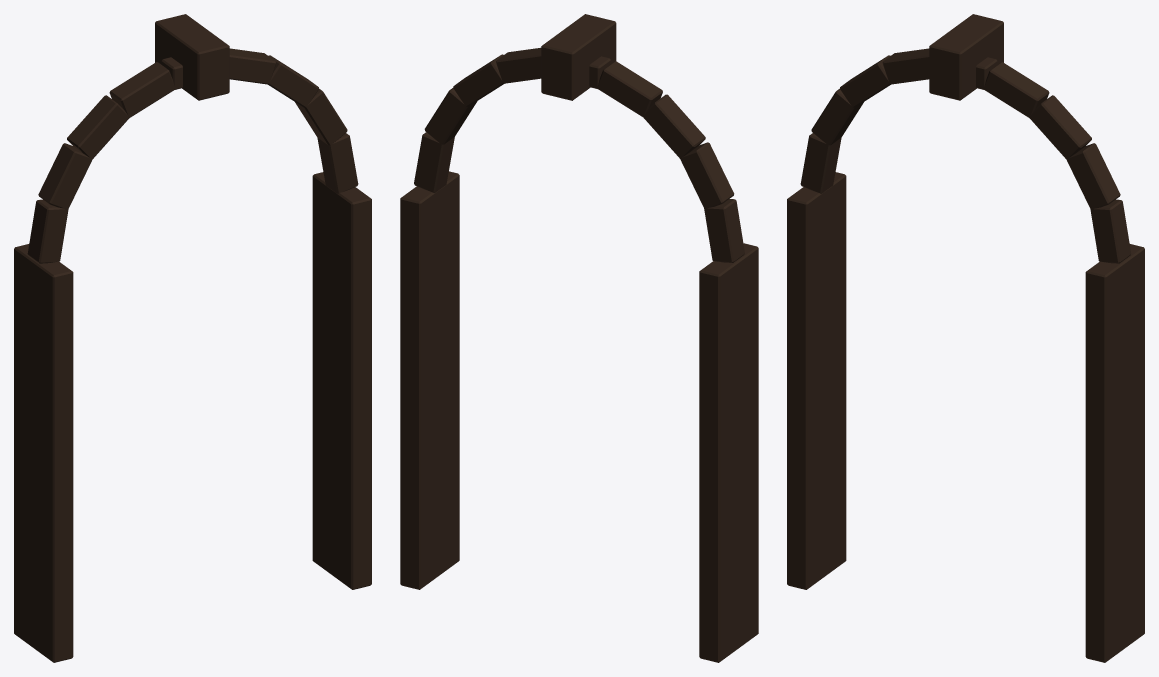
File: frame_archdoor.fbx
The picture shows the model from 3 angles, left to right: view 1: azimuth 30°, elevation 25°; view 2: azimuth 150°, elevation 25°; view 3: azimuth 330°, elevation 25°; orthographic projection.
Visible parts, largest first — view 1: frame_archdoor; view 2: frame_archdoor; view 3: frame_archdoor.
Part boxes in pixels (<box>): frame_archdoor: <box>14,14,371,662</box>; frame_archdoor: <box>400,14,758,662</box>; frame_archdoor: <box>787,14,1144,662</box>.
Size of the model in its own units: 690 by 1190 by 165.
